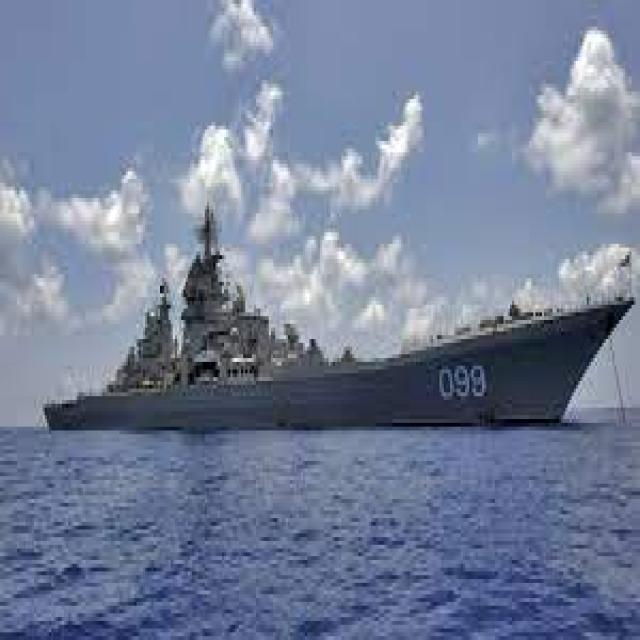navalvessels: (41, 208, 640, 454)
